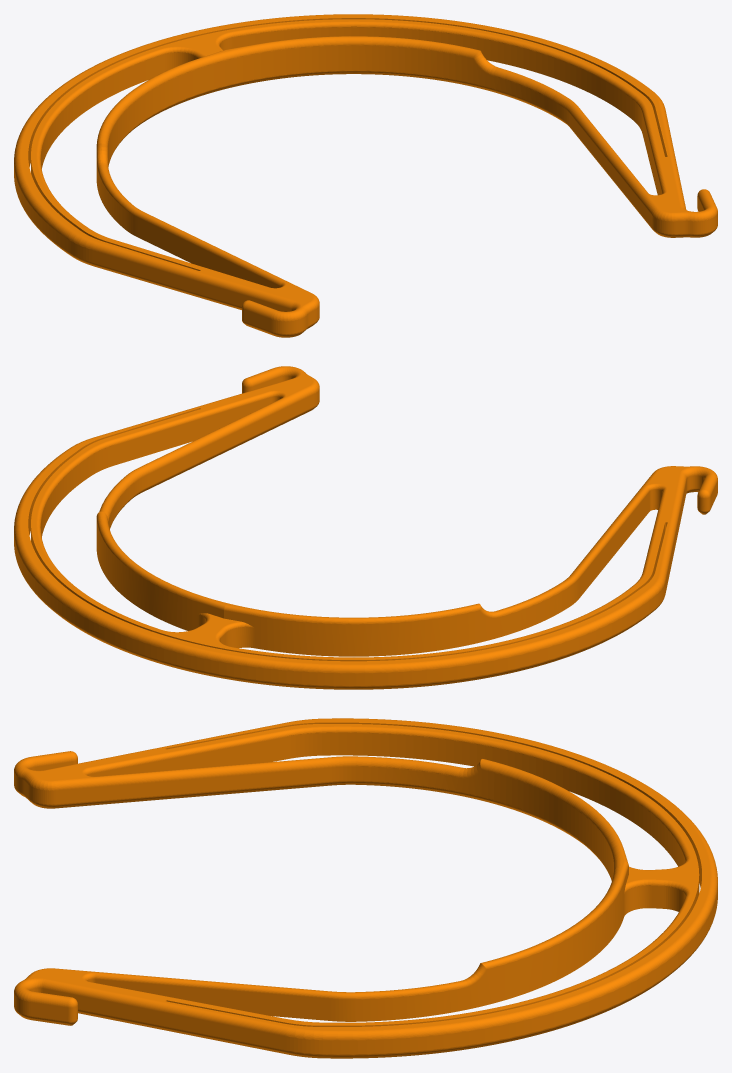
The model's file is FaceShield_v7.dae.
3 views of the same model, one above another, from view 1: azimuth 30°, elevation 25°; view 2: azimuth 150°, elevation 25°; view 3: azimuth 270°, elevation 25° (orthographic). The views are drawn at different scales.
Parts seen in each view (by area): view 1: 5e7a392ebf408714bca1a820; view 2: 5e7a392ebf408714bca1a820; view 3: 5e7a392ebf408714bca1a820.
Part boxes in pixels (box(x1,y1,x2,y2)): 5e7a392ebf408714bca1a820: box(14, 14, 717, 337); 5e7a392ebf408714bca1a820: box(14, 366, 717, 689); 5e7a392ebf408714bca1a820: box(14, 718, 717, 1058).
Bounding box in the file's own units: 0.152 × 0.1423 × 0.009.
